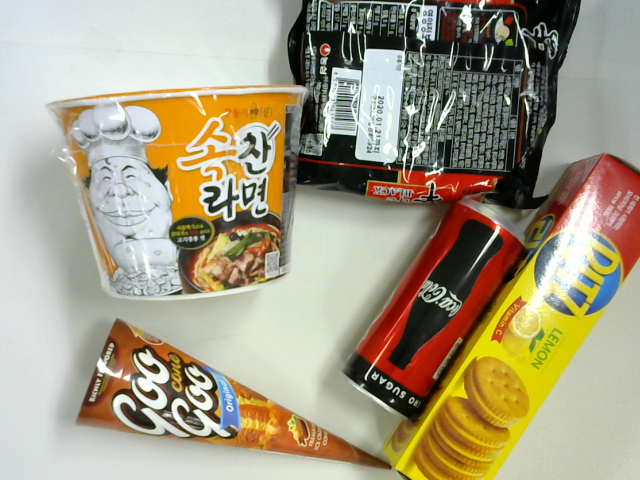Coca_Cola_Zero_Can_250ml: (341, 196, 538, 421)
GooGoo_Cone_CVS: (74, 318, 397, 470)
Hejangchan: (46, 83, 307, 298)
Ritz_Remon_96g: (384, 155, 640, 479)
Sinramen_Black: (285, 1, 580, 210)
